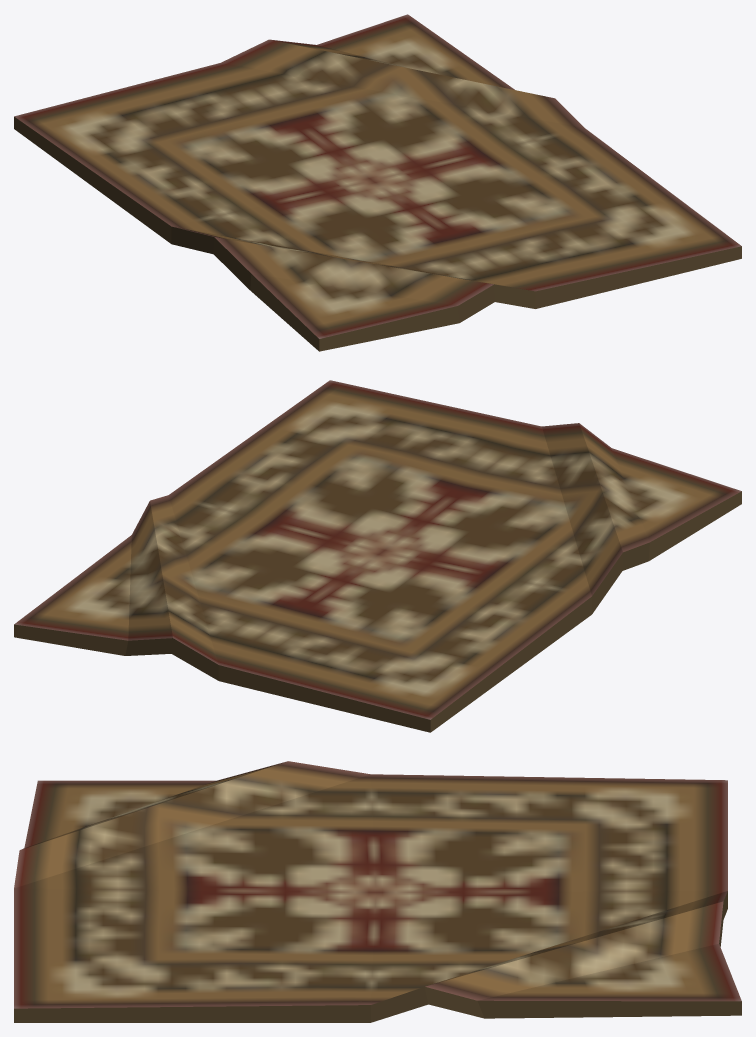
Rendered from SM_Prop_Rug_29.glb.
The picture shows the model from 3 angles, top to bottom: view 1: azimuth 30°, elevation 25°; view 2: azimuth 150°, elevation 25°; view 3: azimuth 270°, elevation 25°; orthographic projection. The views are drawn at different scales.
Parts seen in each view (by area): view 1: SM_Prop_Rug_29; view 2: SM_Prop_Rug_29; view 3: SM_Prop_Rug_29.
Boxes of the visible parts, left/top/right/bottom form: SM_Prop_Rug_29: left=14, top=14, right=741, bottom=351; SM_Prop_Rug_29: left=14, top=380, right=741, bottom=732; SM_Prop_Rug_29: left=14, top=761, right=741, bottom=1022.
Size of the model in its own units: 1.15 by 0.0908 by 1.55.
1 material, 1 textured.
